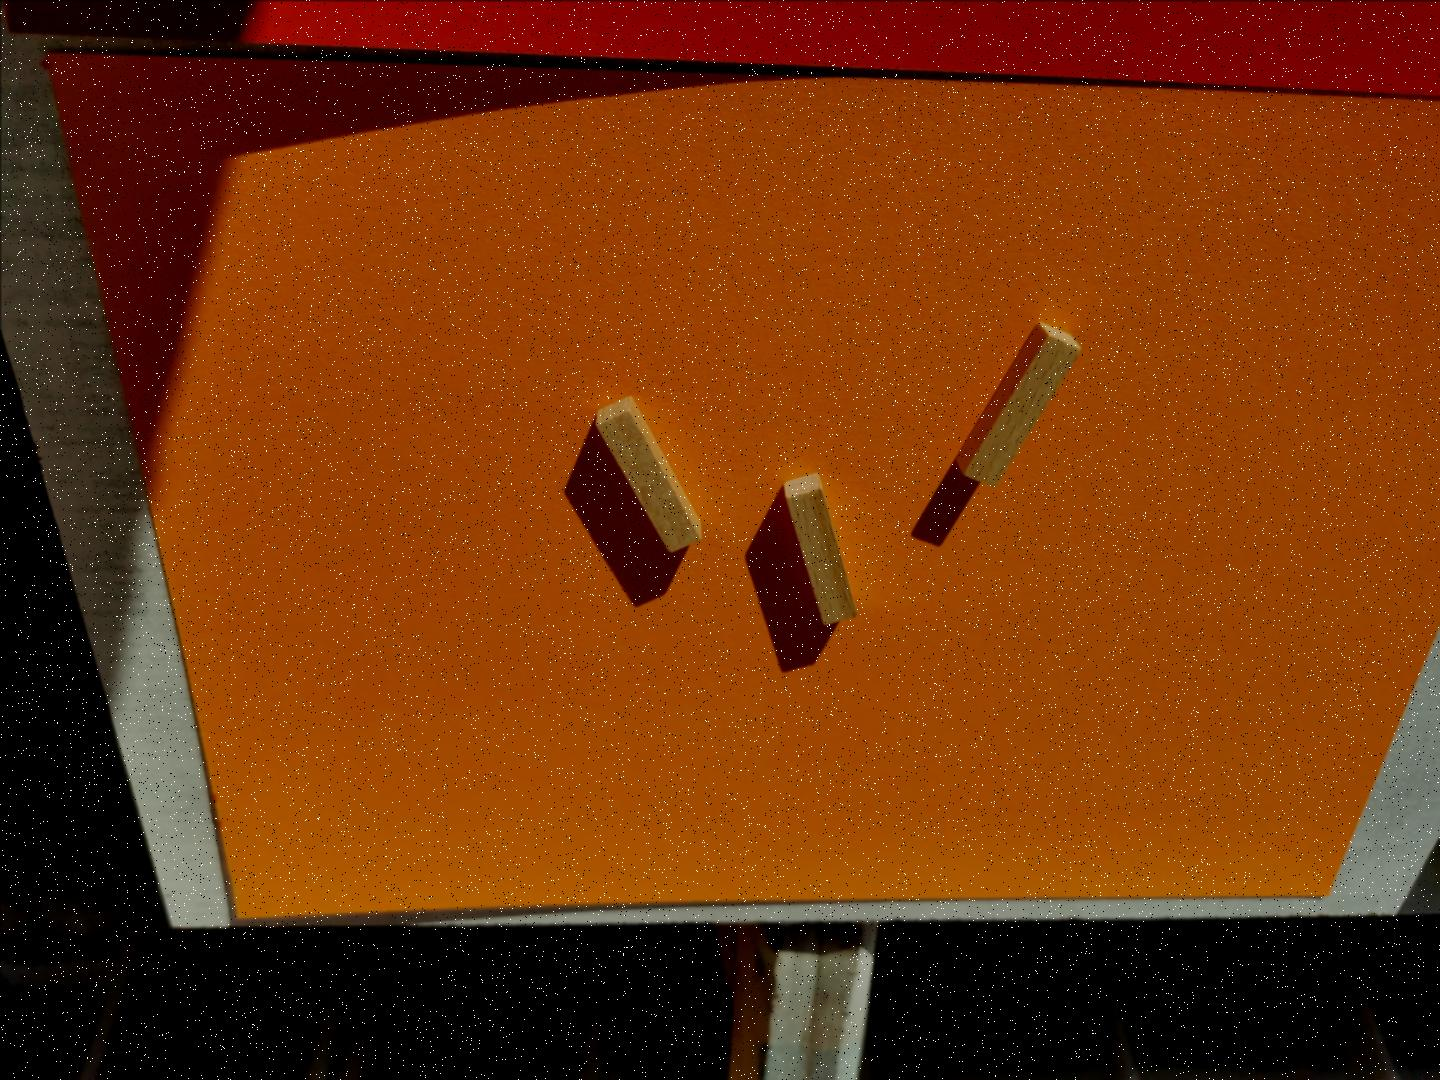jenga: (956, 323, 1079, 487), (593, 397, 701, 551), (785, 472, 855, 624)
